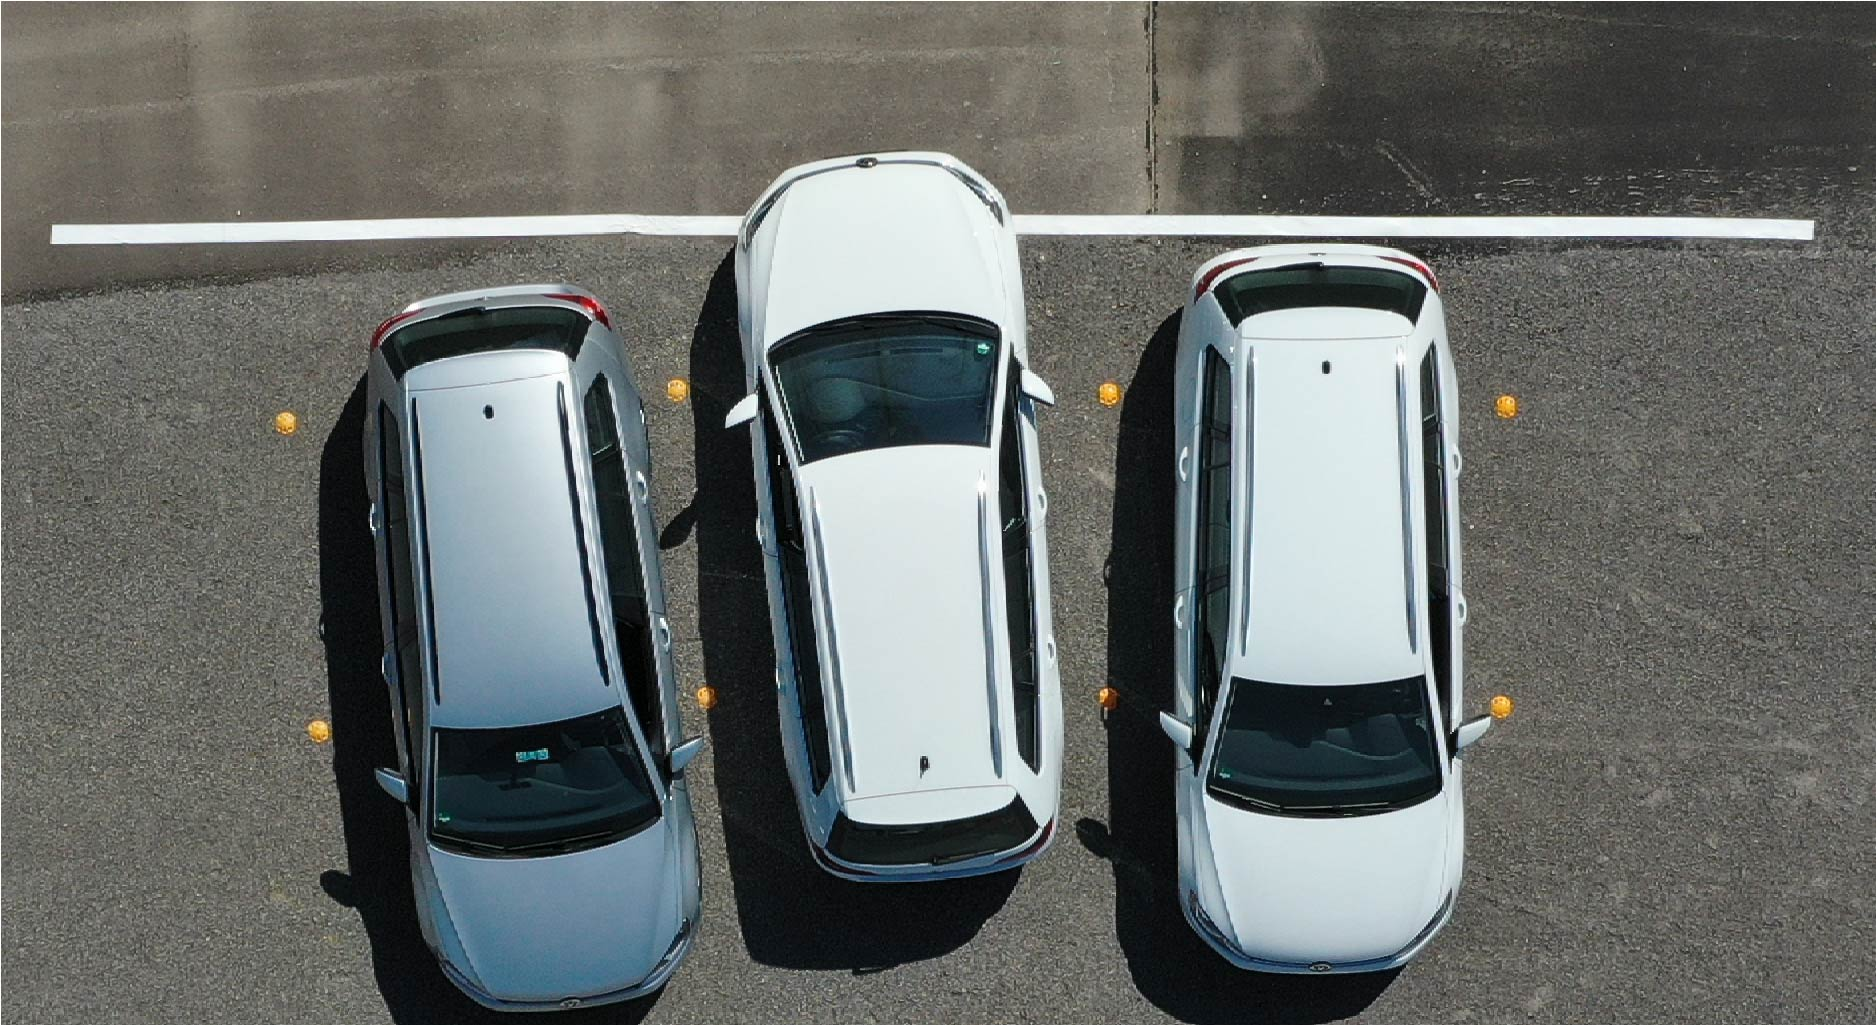Car: (722, 148, 1065, 911), (357, 269, 700, 1022), (1156, 249, 1500, 988)
LaneMark: (1069, 208, 1819, 249), (45, 210, 717, 249)
